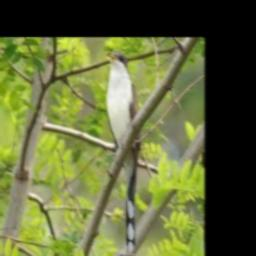Cuckoo: (104, 52, 141, 255)
